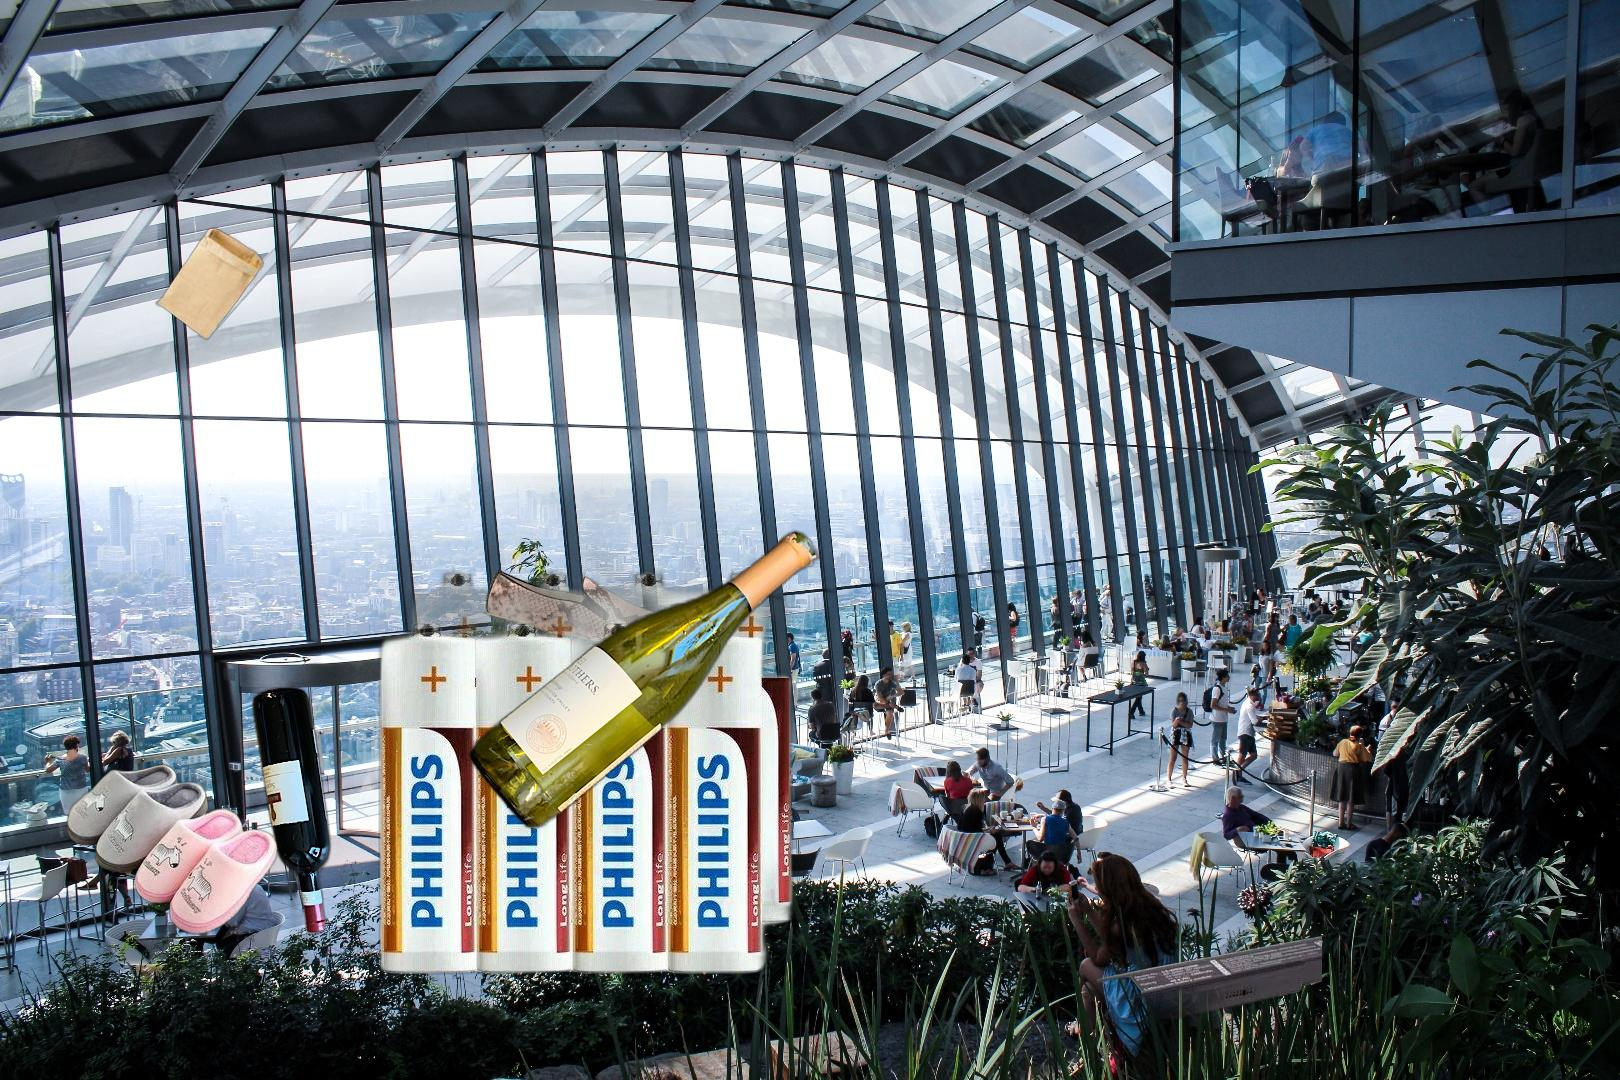battery: (287, 472, 887, 980), (1097, 933, 1322, 1080), (1616, 532, 1620, 1080)
glass: (466, 526, 823, 834), (247, 681, 499, 1080)
paper-bag: (153, 225, 265, 342)
shoes: (64, 728, 282, 937), (482, 567, 694, 648)
